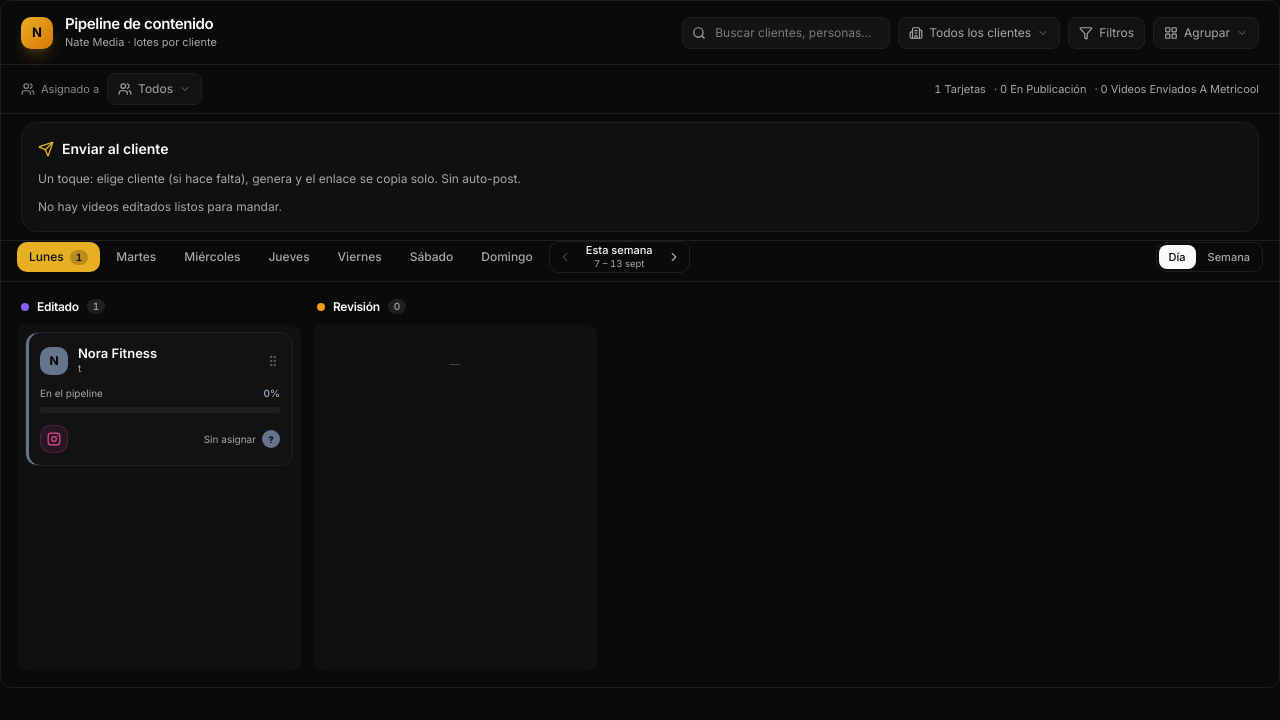
Test case: EntregasBoard — trabajar adelantado › cada semana enseña solo lo suyo
Expected: the text "Nora Fitness" is shown, [78, 345, 157, 361]
Expected: the text "Lumen" is not shown
Click the button named "Semana siguiente": (674, 257) [661, 246, 687, 268]
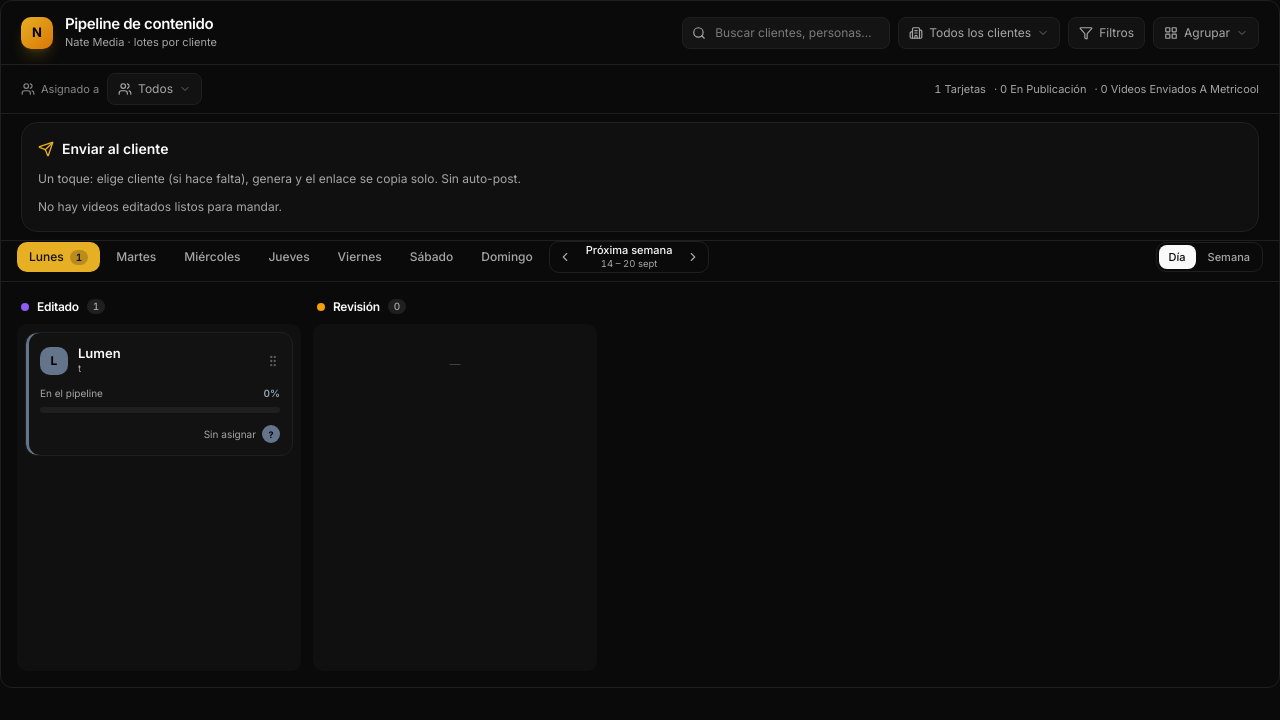
Now the text "Lumen" is shown, box [78, 345, 121, 361]
Now the text "Nora Fitness" is gone
